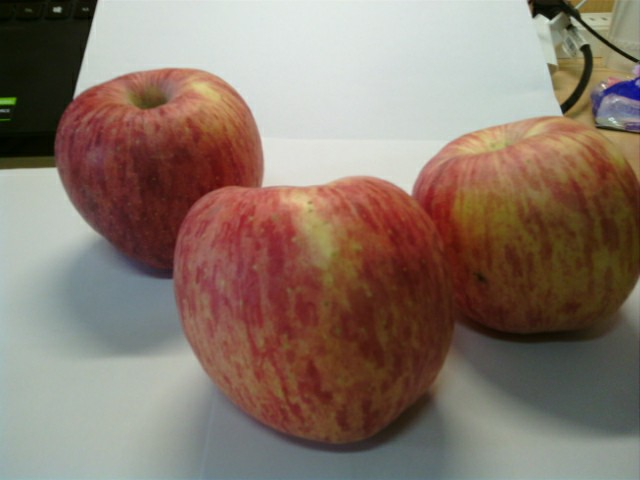normal_apple: (172, 177, 454, 454), (410, 114, 640, 340), (52, 65, 264, 275)
